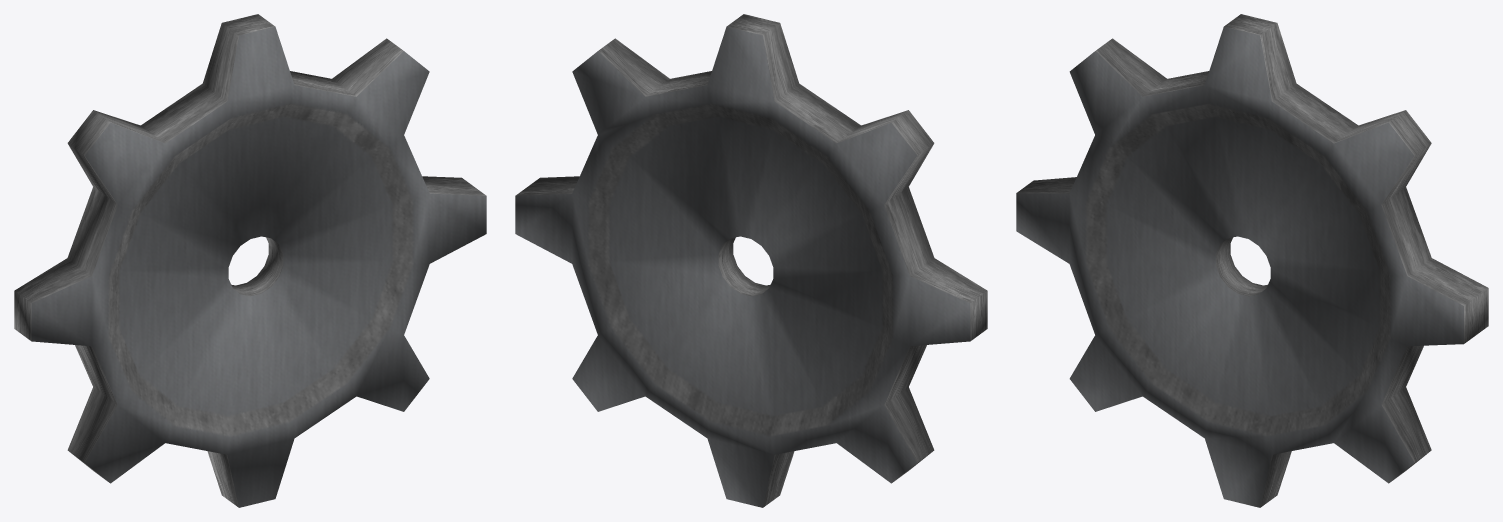
3 views of the same model, side by side, from view 1: azimuth 30°, elevation 25°; view 2: azimuth 150°, elevation 25°; view 3: azimuth 330°, elevation 25° (orthographic).
Parts seen in each view (by area): view 1: gear_08; view 2: gear_08; view 3: gear_08.
Part boxes in pixels (x1=…): gear_08: x1=14, y1=14, x2=486, y2=507; gear_08: x1=515, y1=14, x2=987, y2=507; gear_08: x1=1016, y1=14, x2=1488, y2=507.
Size of the model in its own units: 2.11 by 2.11 by 0.2.
Materials: 1 (1 with a texture image).
